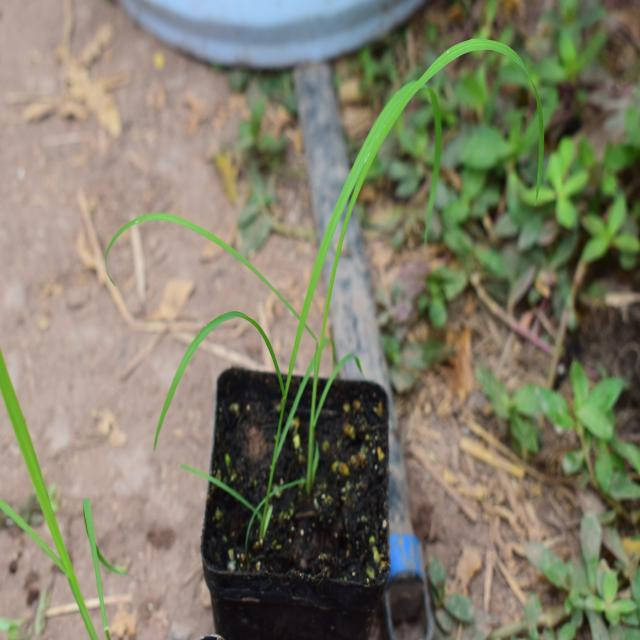barnyard_grass: (171, 62, 485, 438)
